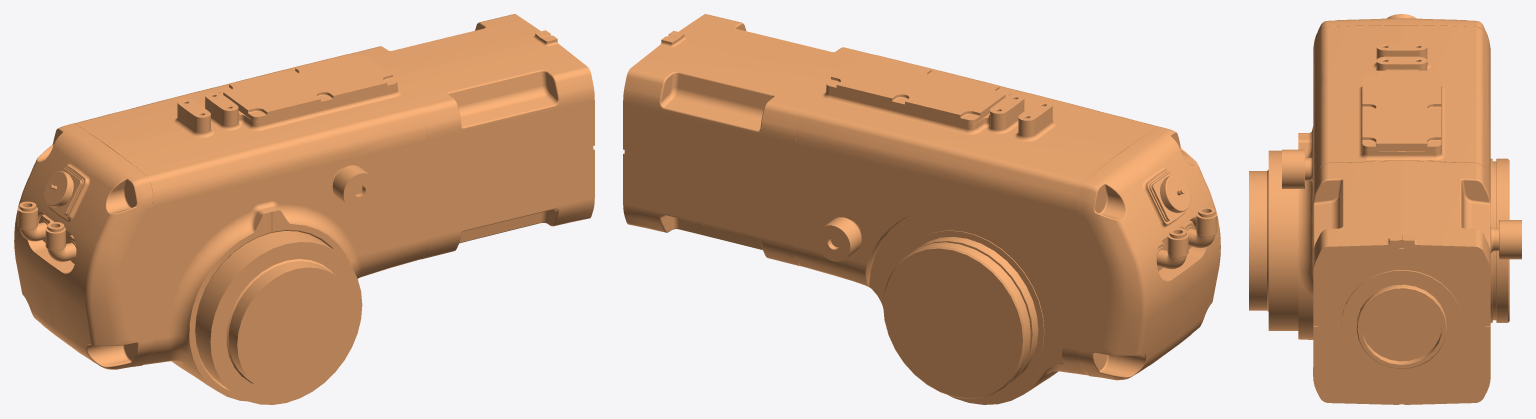
The picture shows the model from 3 angles, left to right: view 1: azimuth 30°, elevation 25°; view 2: azimuth 150°, elevation 25°; view 3: azimuth 270°, elevation 25°; orthographic projection. The views are drawn at different scales.
Parts seen in each view (by area): view 1: R7-900_JOINT3; view 2: R7-900_JOINT3; view 3: R7-900_JOINT3.
Part boxes in pixels (<box>): R7-900_JOINT3: <box>14,14,594,404</box>; R7-900_JOINT3: <box>623,14,1220,404</box>; R7-900_JOINT3: <box>1249,14,1521,404</box>.
Size of the model in its own units: 0.3808 by 0.166 by 0.1829.
